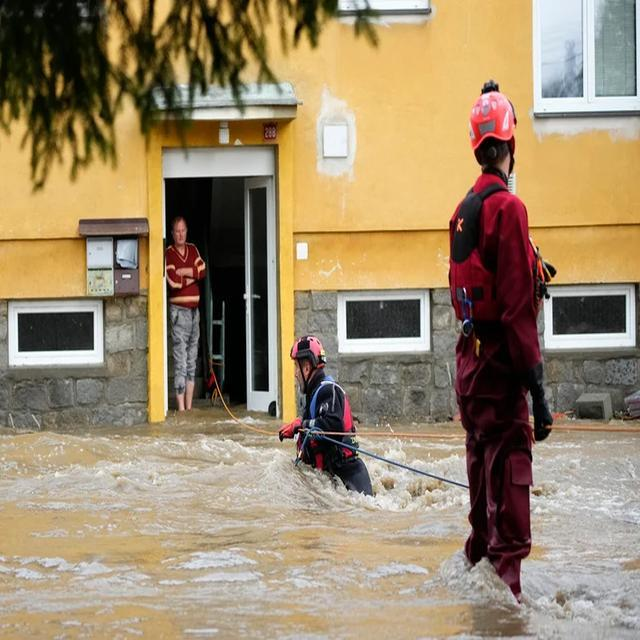Person-RiskLevel1: (162, 215, 218, 420)
Person-RiskLevel2: (438, 79, 555, 606)
Person-RiskLevel3: (276, 326, 382, 504)
